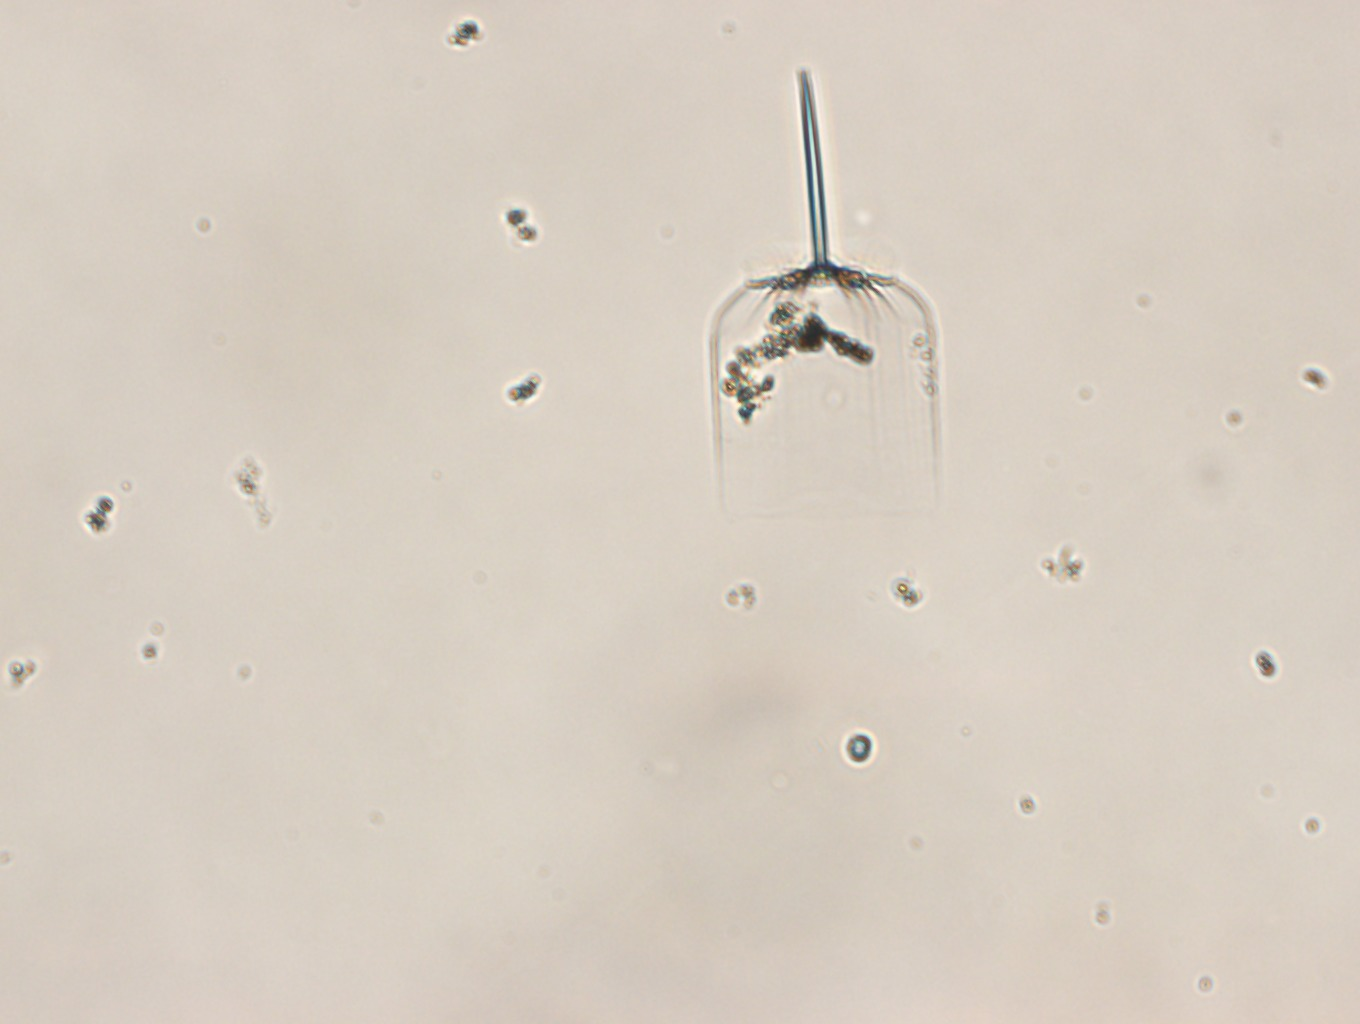ditylum: (708, 69, 940, 504)
